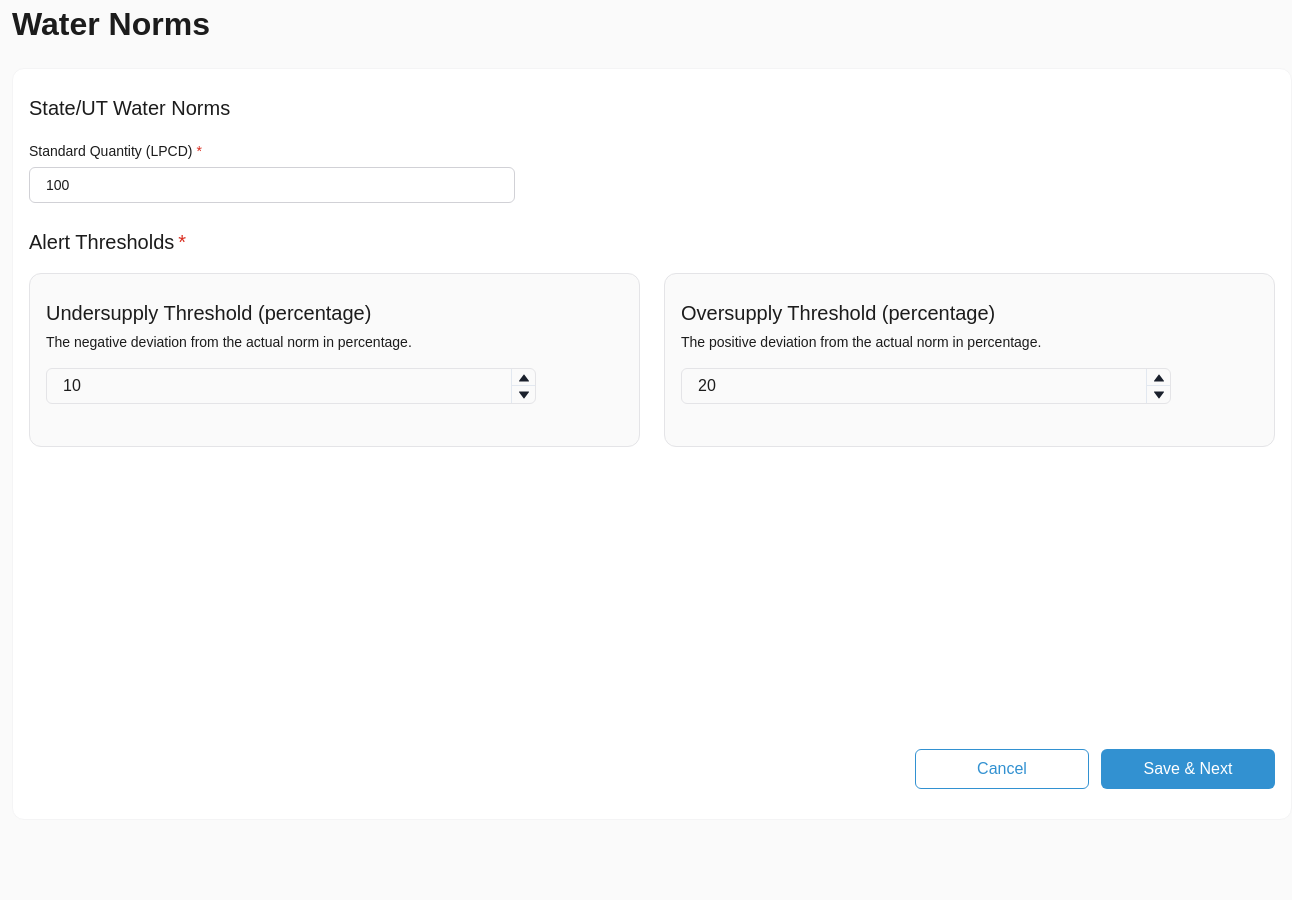
Test: WaterNormsPage › clears inline error on field change
Clear the number field labelled "Standard Quantity (LPCD)*": (272, 185) top-left (29, 167), bottom-right (515, 203)
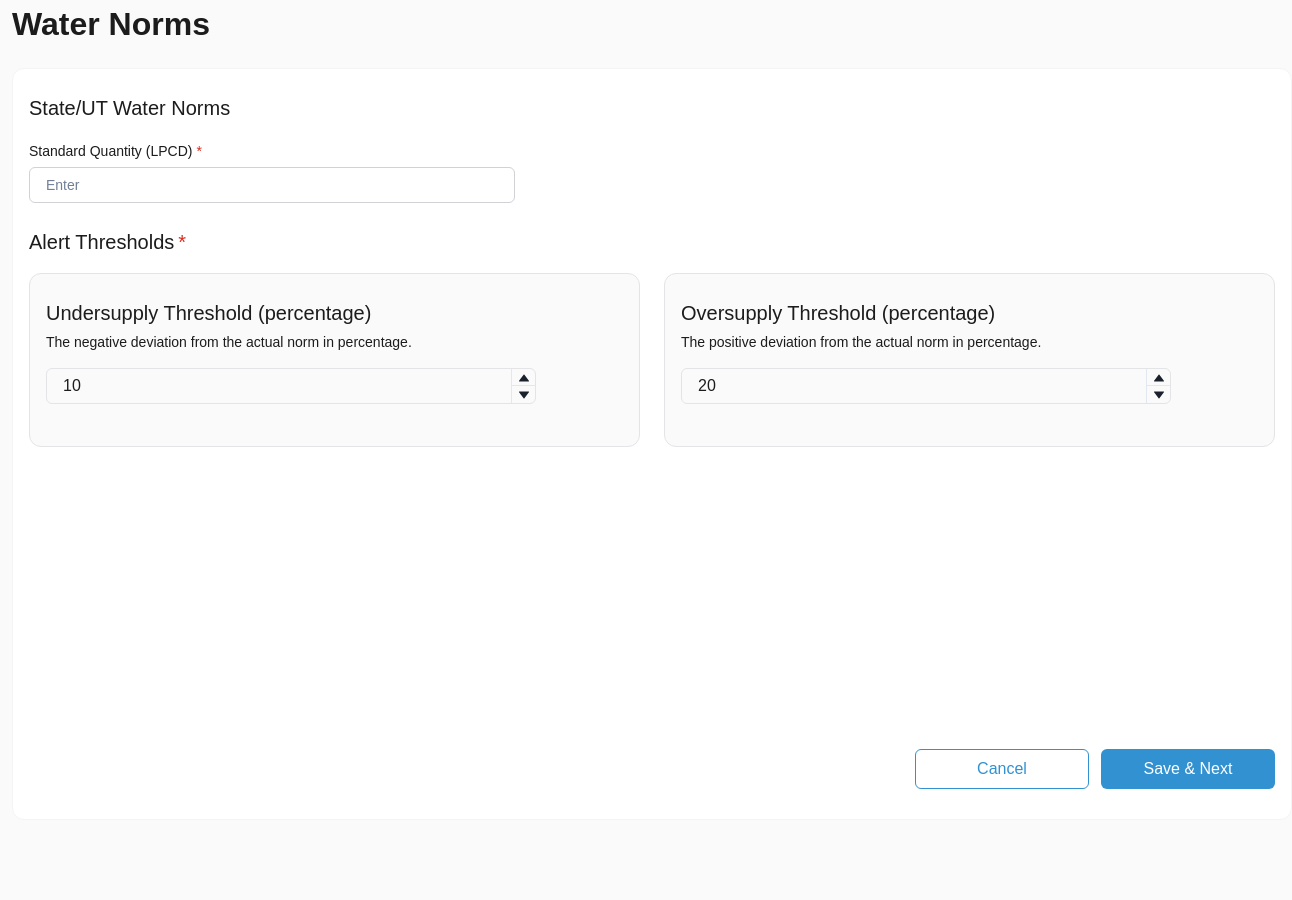
Click the button "Save & Next": (1188, 769) top-left (1101, 749), bottom-right (1275, 789)
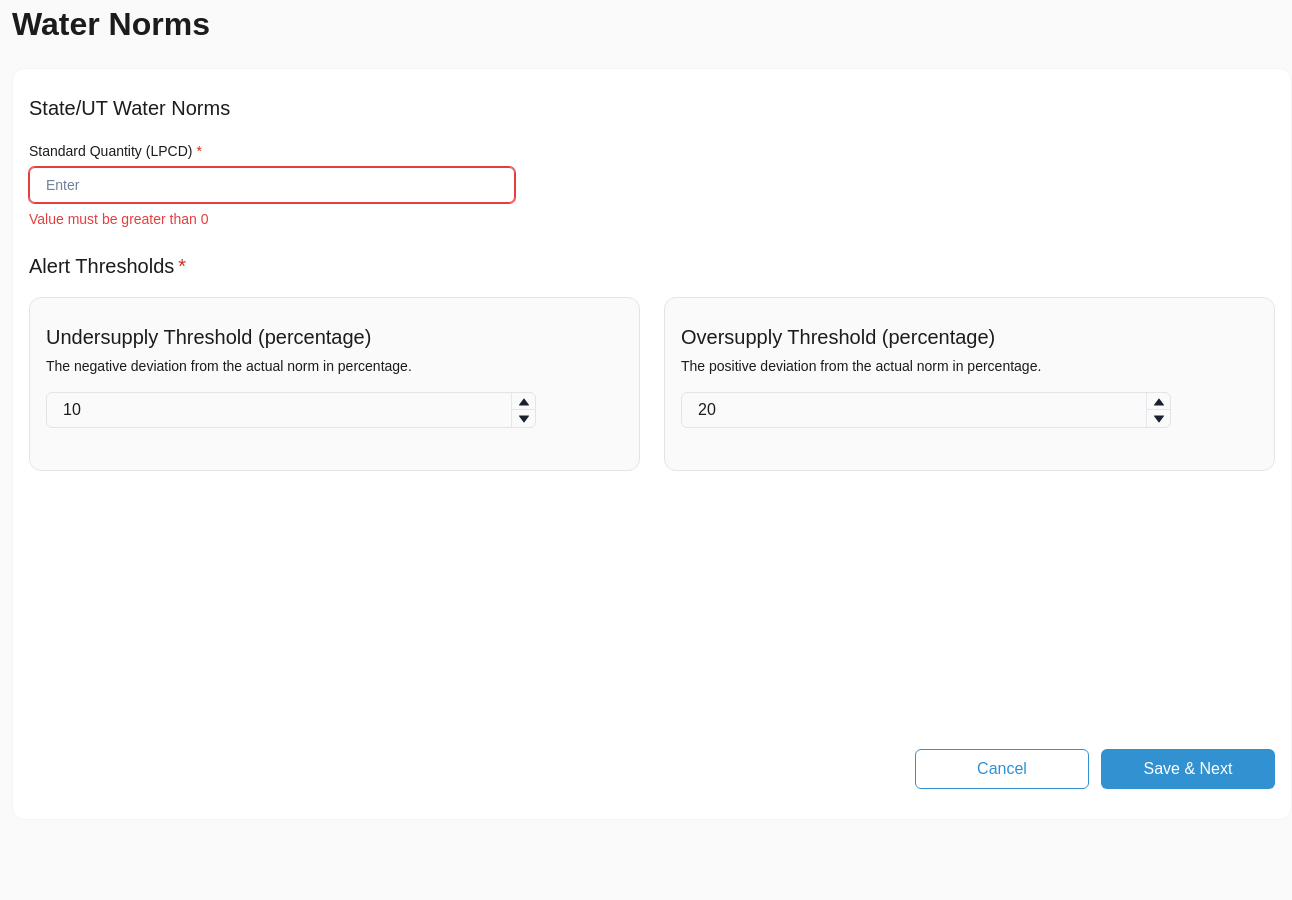
Result: the text "Value must be greater than 0" is shown at top-left (29, 211), bottom-right (208, 227)
Note: Typing clears the error
In the number field labelled "Standard Quantity (LPCD)*": (272, 185) top-left (29, 167), bottom-right (515, 203), type "50"
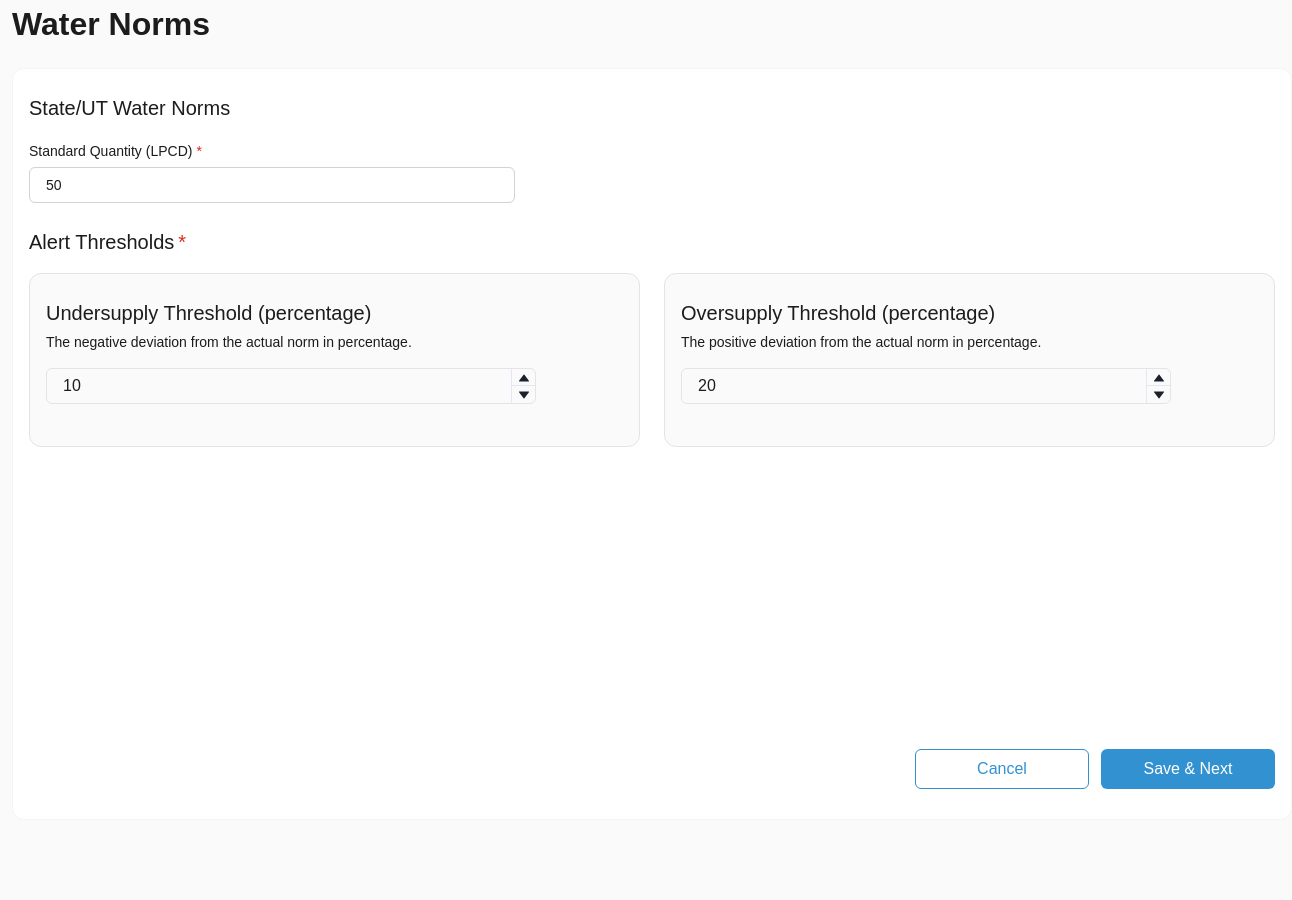
Result: the text "must be greater than 0" is gone
